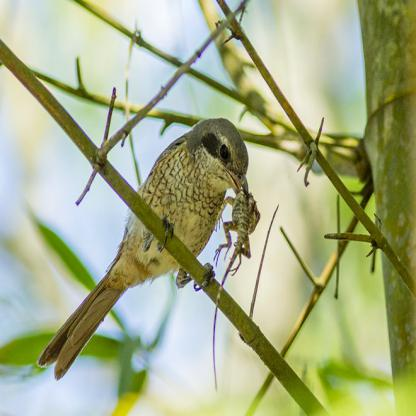Burung: (35, 117, 249, 379)
